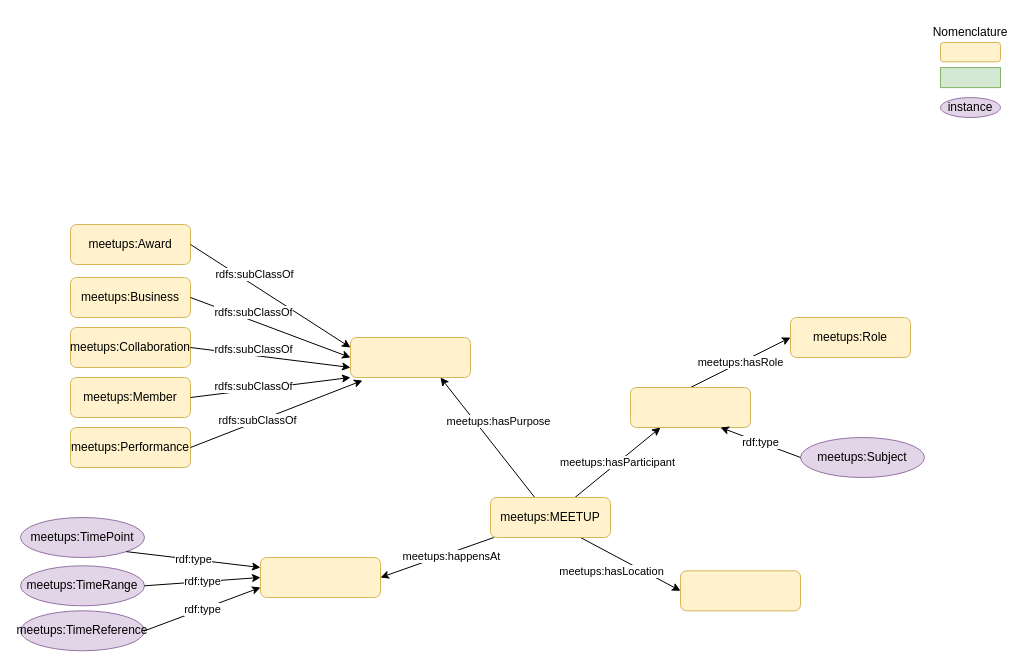
Image size: 1025x668. Some labels were removed from this diagram. Each missing label, with the centre of its shape:
"Class" goes at point (970, 52).
"Datatype" goes at point (970, 77).
"meetups:Location" goes at point (740, 590).
"meetups:Participant" goes at point (690, 407).
"meetups:Purpose" goes at point (410, 357).
"meetups:Time" goes at point (320, 577).
